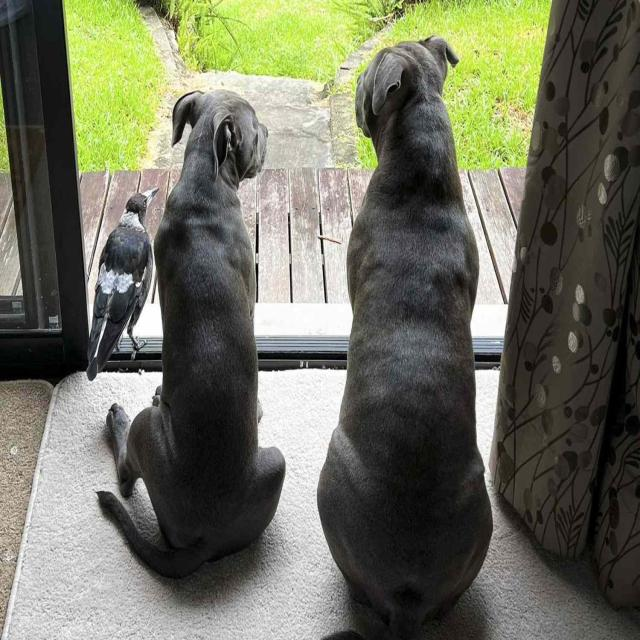Dog: (347, 26, 464, 166), (168, 70, 273, 192)
